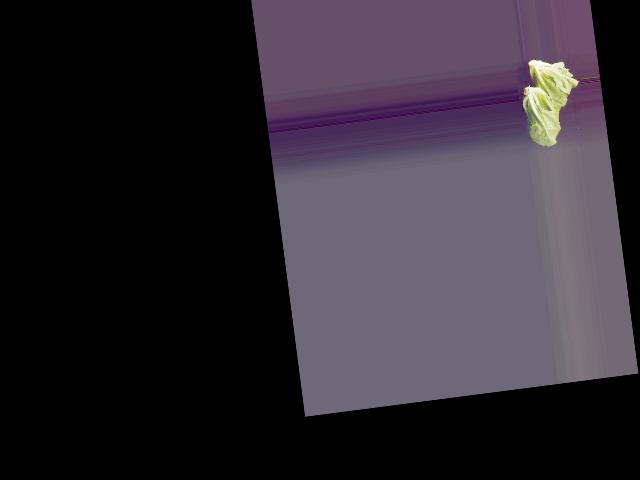lettuce: (521, 54, 581, 122)
